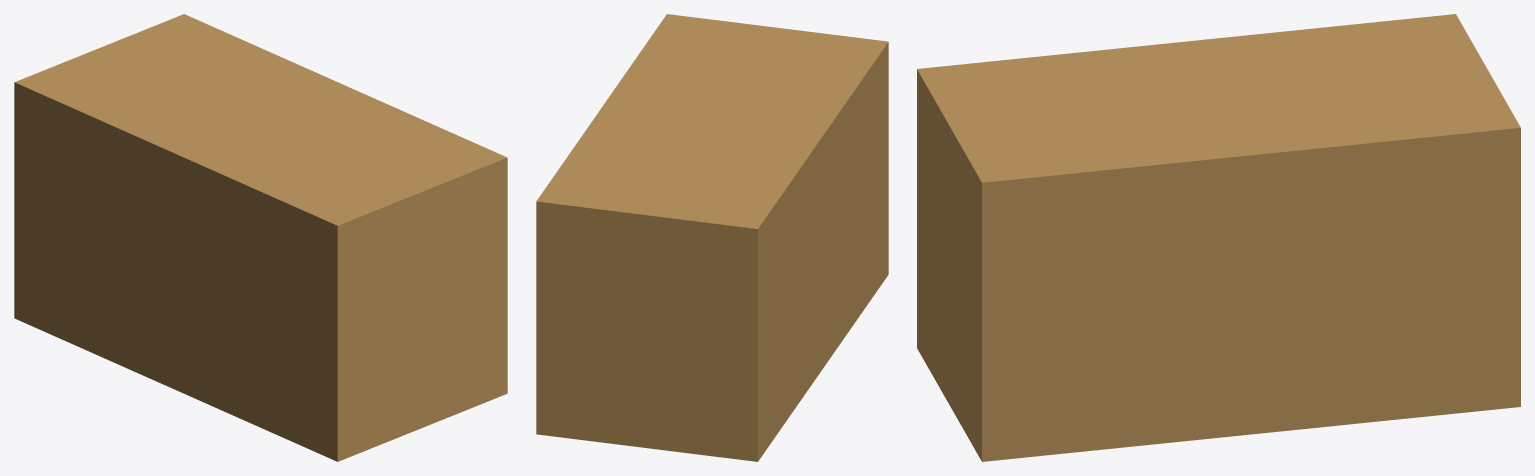
3 renders of one model, left to right at view 1: azimuth 30°, elevation 25°; view 2: azimuth 150°, elevation 25°; view 3: azimuth 270°, elevation 25°, orthographic. The views are drawn at different scales.
Visible parts, largest first — view 1: RUN-018-S00-STUD-02; view 2: RUN-018-S00-STUD-02; view 3: RUN-018-S00-STUD-02.
Boxes of the visible parts, x1,y1,x2,y2 form: RUN-018-S00-STUD-02: [14, 14, 507, 461]; RUN-018-S00-STUD-02: [536, 14, 888, 461]; RUN-018-S00-STUD-02: [917, 14, 1520, 461].
Size of the model in its own units: 0.0648 by 0.05 by 0.098.
